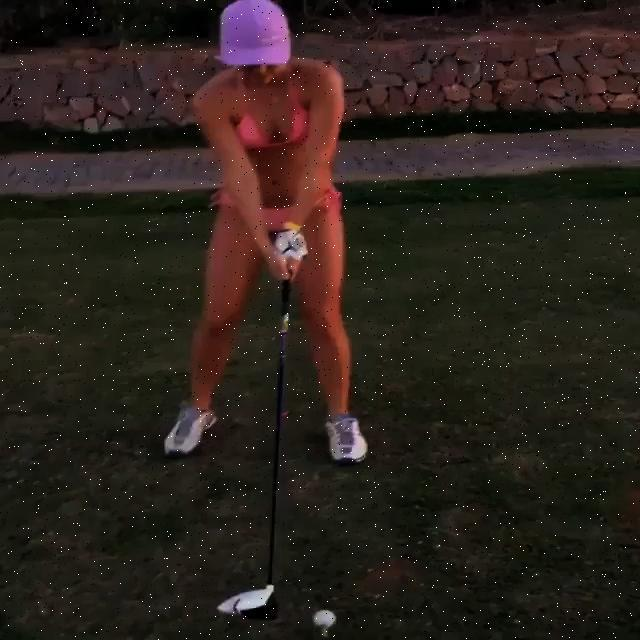ClubHead: (216, 586, 278, 622)
GolfBall: (313, 608, 337, 628)
